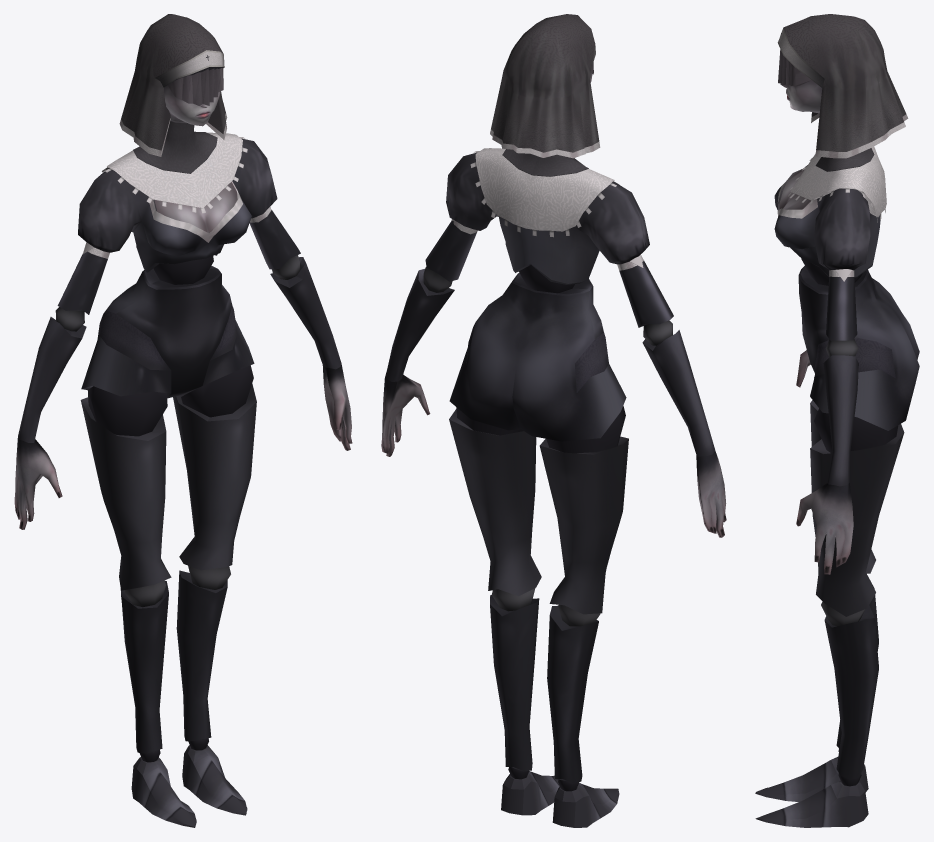
File: GAT140_Ratu_R_Character_Final.fbx
3 views of the same model, side by side, from view 1: azimuth 30°, elevation 25°; view 2: azimuth 150°, elevation 25°; view 3: azimuth 270°, elevation 25° (orthographic). The views are drawn at different scales.
Visible parts, largest first — view 1: Character_Doll; view 2: Character_Doll; view 3: Character_Doll.
Part boxes in pixels (bbox=[...]): Character_Doll: bbox=[14, 14, 352, 827]; Character_Doll: bbox=[381, 14, 726, 827]; Character_Doll: bbox=[755, 14, 919, 827].
Bounding box in the file's own units: 5.74 × 12.94 × 2.43.
